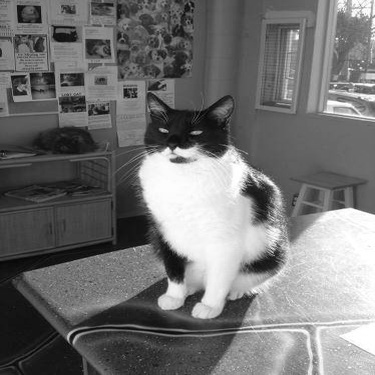cat: (110, 81, 304, 326)
